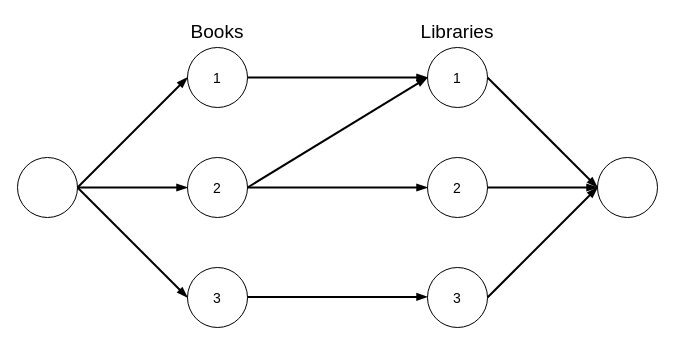
The diagram is 675 pixels wide and 345 high, and some of its shapes have lost their labels. Each missing label, with the centre of its shape:
Sink: the point at 627,187
Source: the point at 47,187
